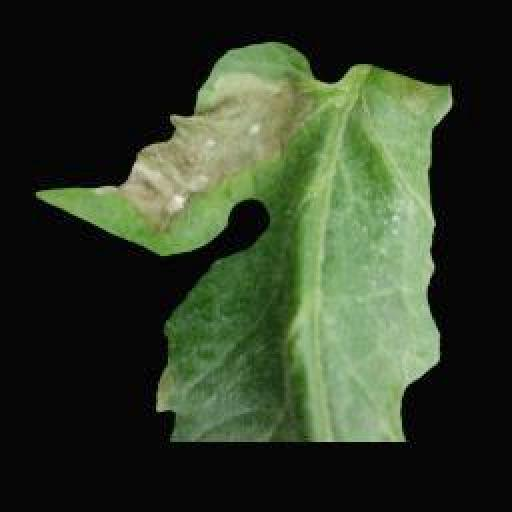disease_tomato: (37, 38, 455, 442)
